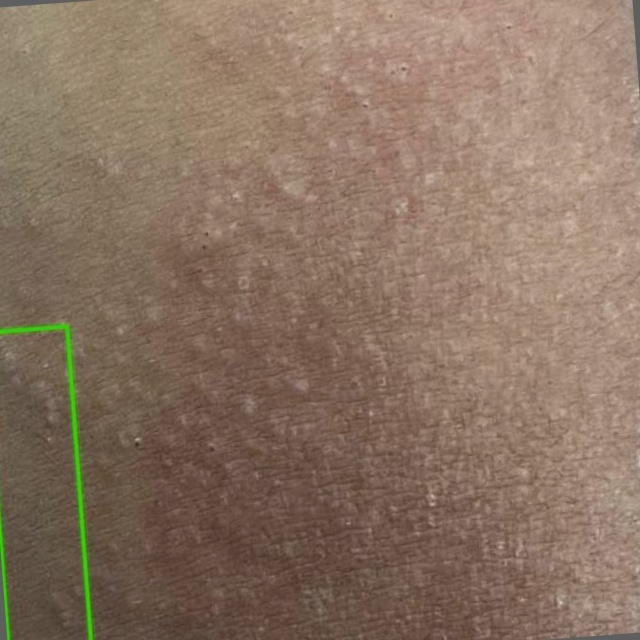Contact Dermatitis: (0, 326, 90, 639)
